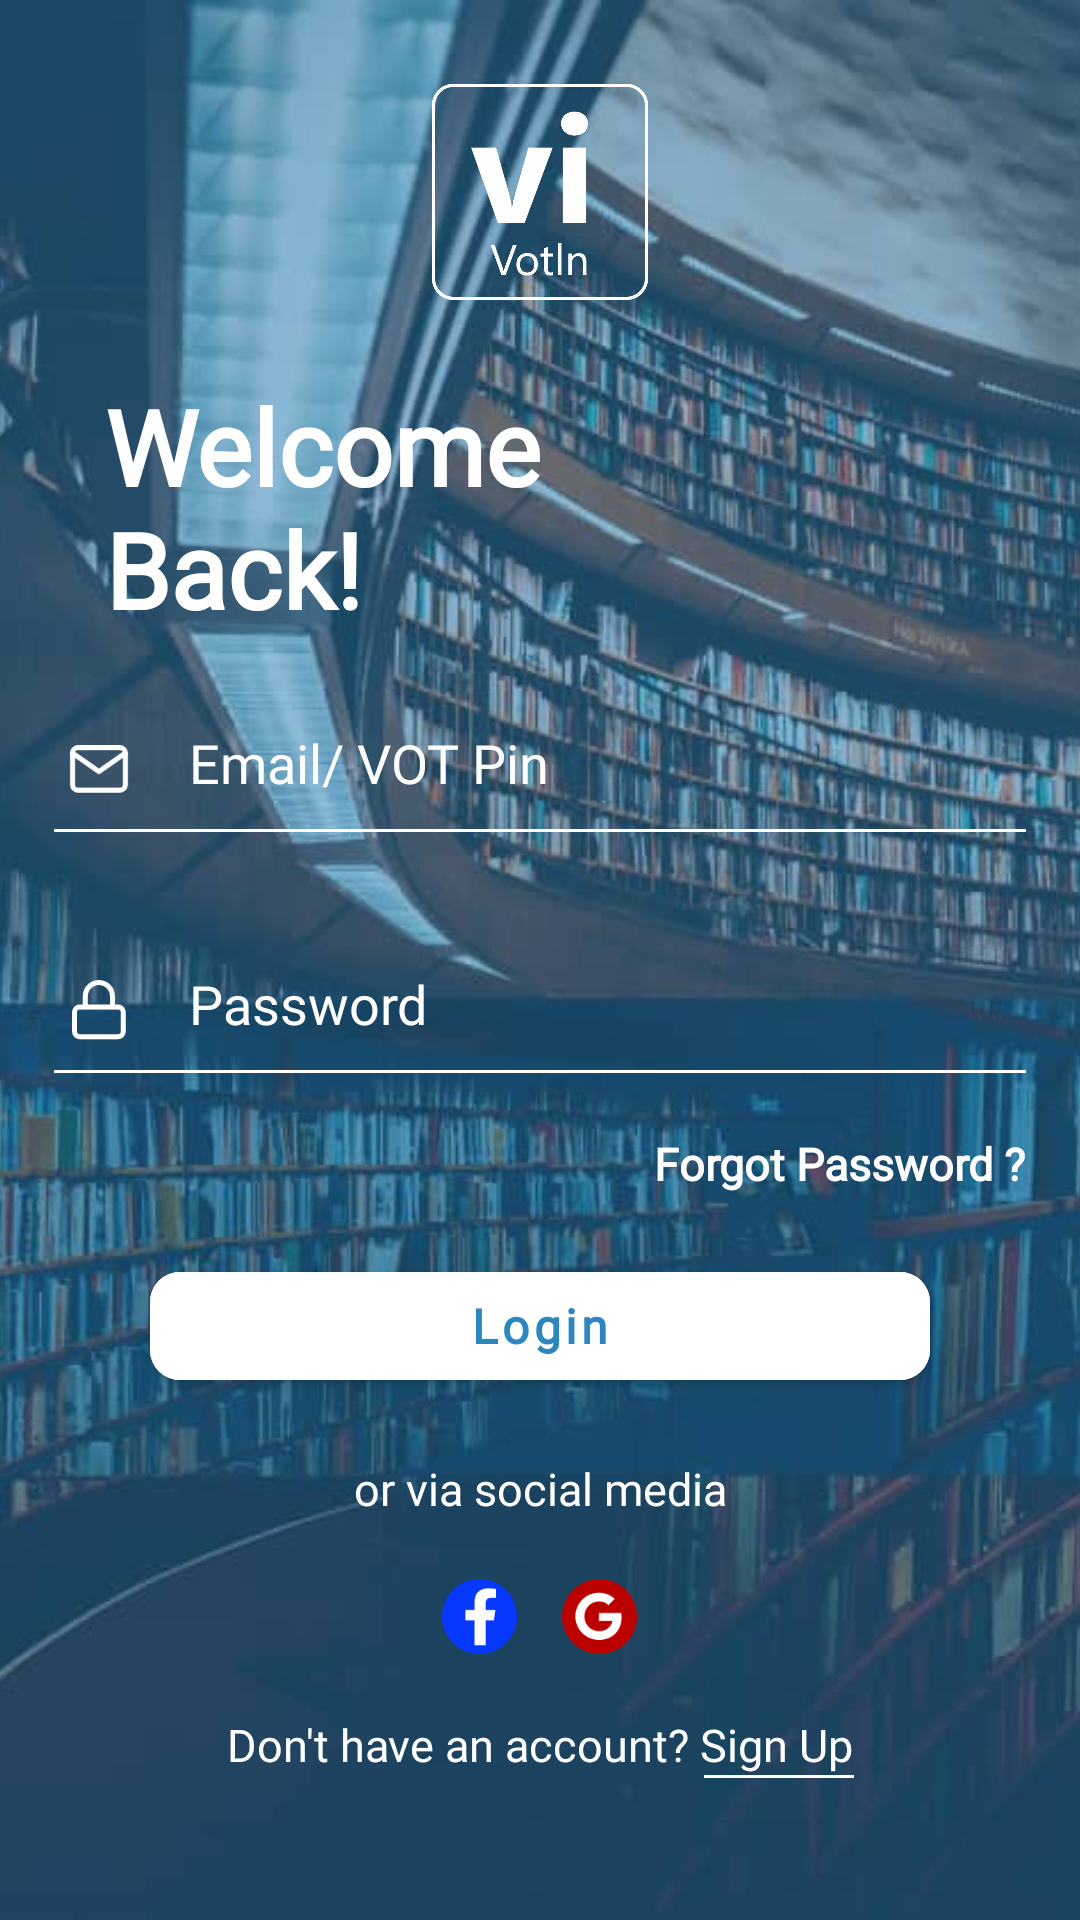

Icons on this 1080w x 1920h Android screen, each with the point to tap as (x=x, y=y):
emailicon: (x=99, y=769)
lock: (x=100, y=1010)
